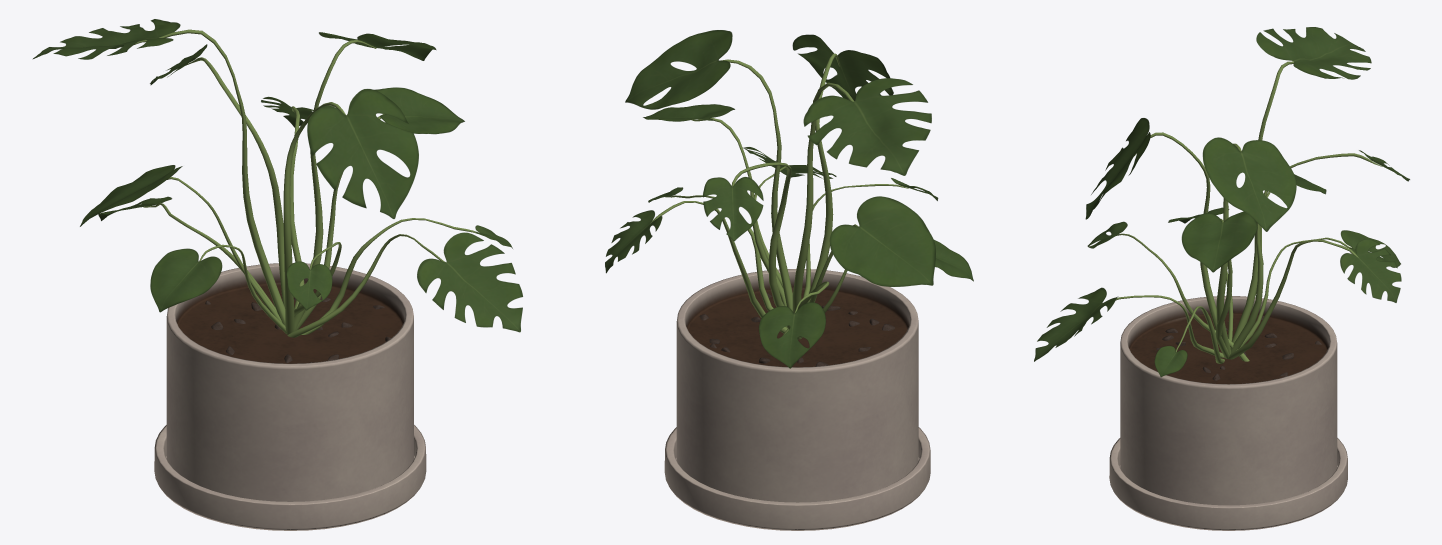
3 views of the same model, side by side, from view 1: azimuth 30°, elevation 25°; view 2: azimuth 150°, elevation 25°; view 3: azimuth 270°, elevation 25° (orthographic). The views are drawn at different scales.
Parts seen in each view (by area): view 1: Pot_01, Monstera_Plant; view 2: Pot_01, Monstera_Plant; view 3: Pot_01, Monstera_Plant.
Boxes of the visible parts, <box> form: Pot_01: <box>154,263,426,530</box>; Monstera_Plant: <box>32,19,522,337</box>; Pot_01: <box>664,269,930,530</box>; Monstera_Plant: <box>605,30,973,368</box>; Pot_01: <box>1109,296,1347,530</box>; Monstera_Plant: <box>1034,27,1409,377</box>.
Bounding box in the file's own units: 0.869 × 0.8893 × 0.849.
2 materials, 2 textured.
